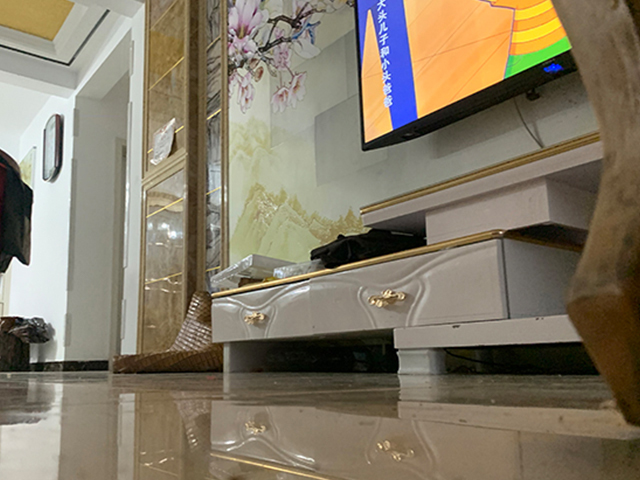cabinet: (209, 129, 599, 375)
